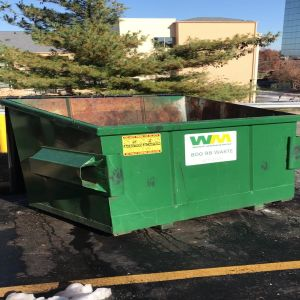Dumpster: (1, 94, 300, 241)
